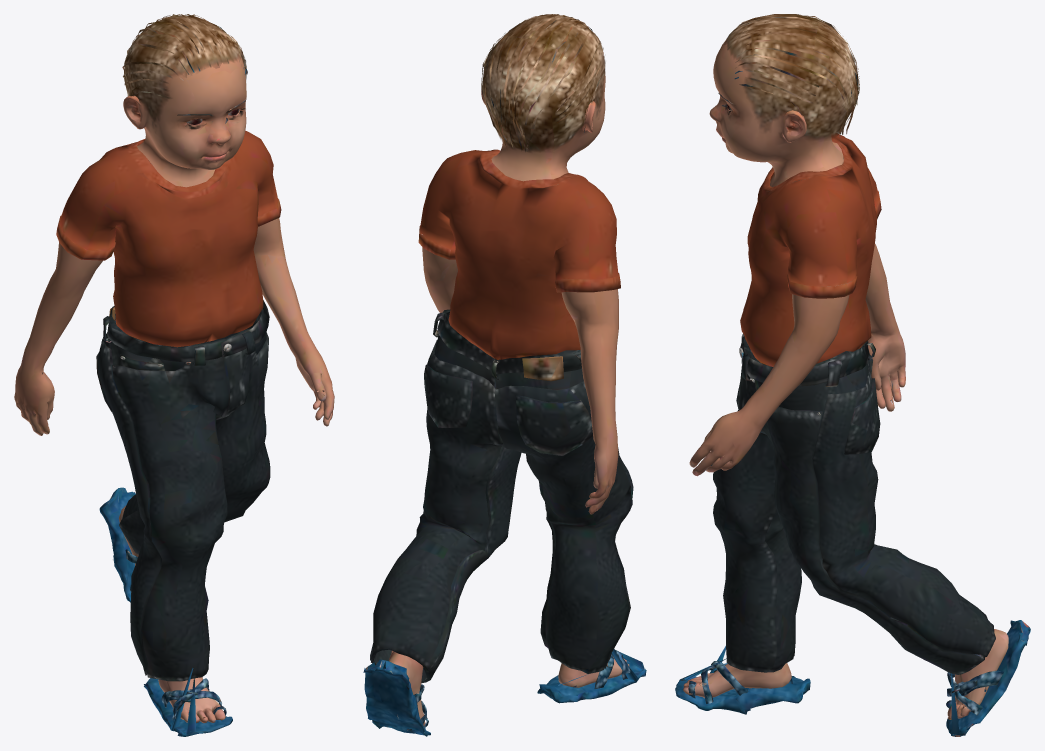
3 renders of one model, left to right at view 1: azimuth 30°, elevation 25°; view 2: azimuth 150°, elevation 25°; view 3: azimuth 270°, elevation 25°, orthographic. The views are drawn at different scales.
Parts seen in each view (by area): view 1: p04606; view 2: p04606; view 3: p04606.
Part boxes in pixels (x1,y1,x2,y2): p04606: (14,14,334,736); p04606: (363,14,646,736); p04606: (675,14,1030,736).
Size of the model in its own units: 0.3572 by 0.9991 by 0.4635.
1 material, 1 textured.
